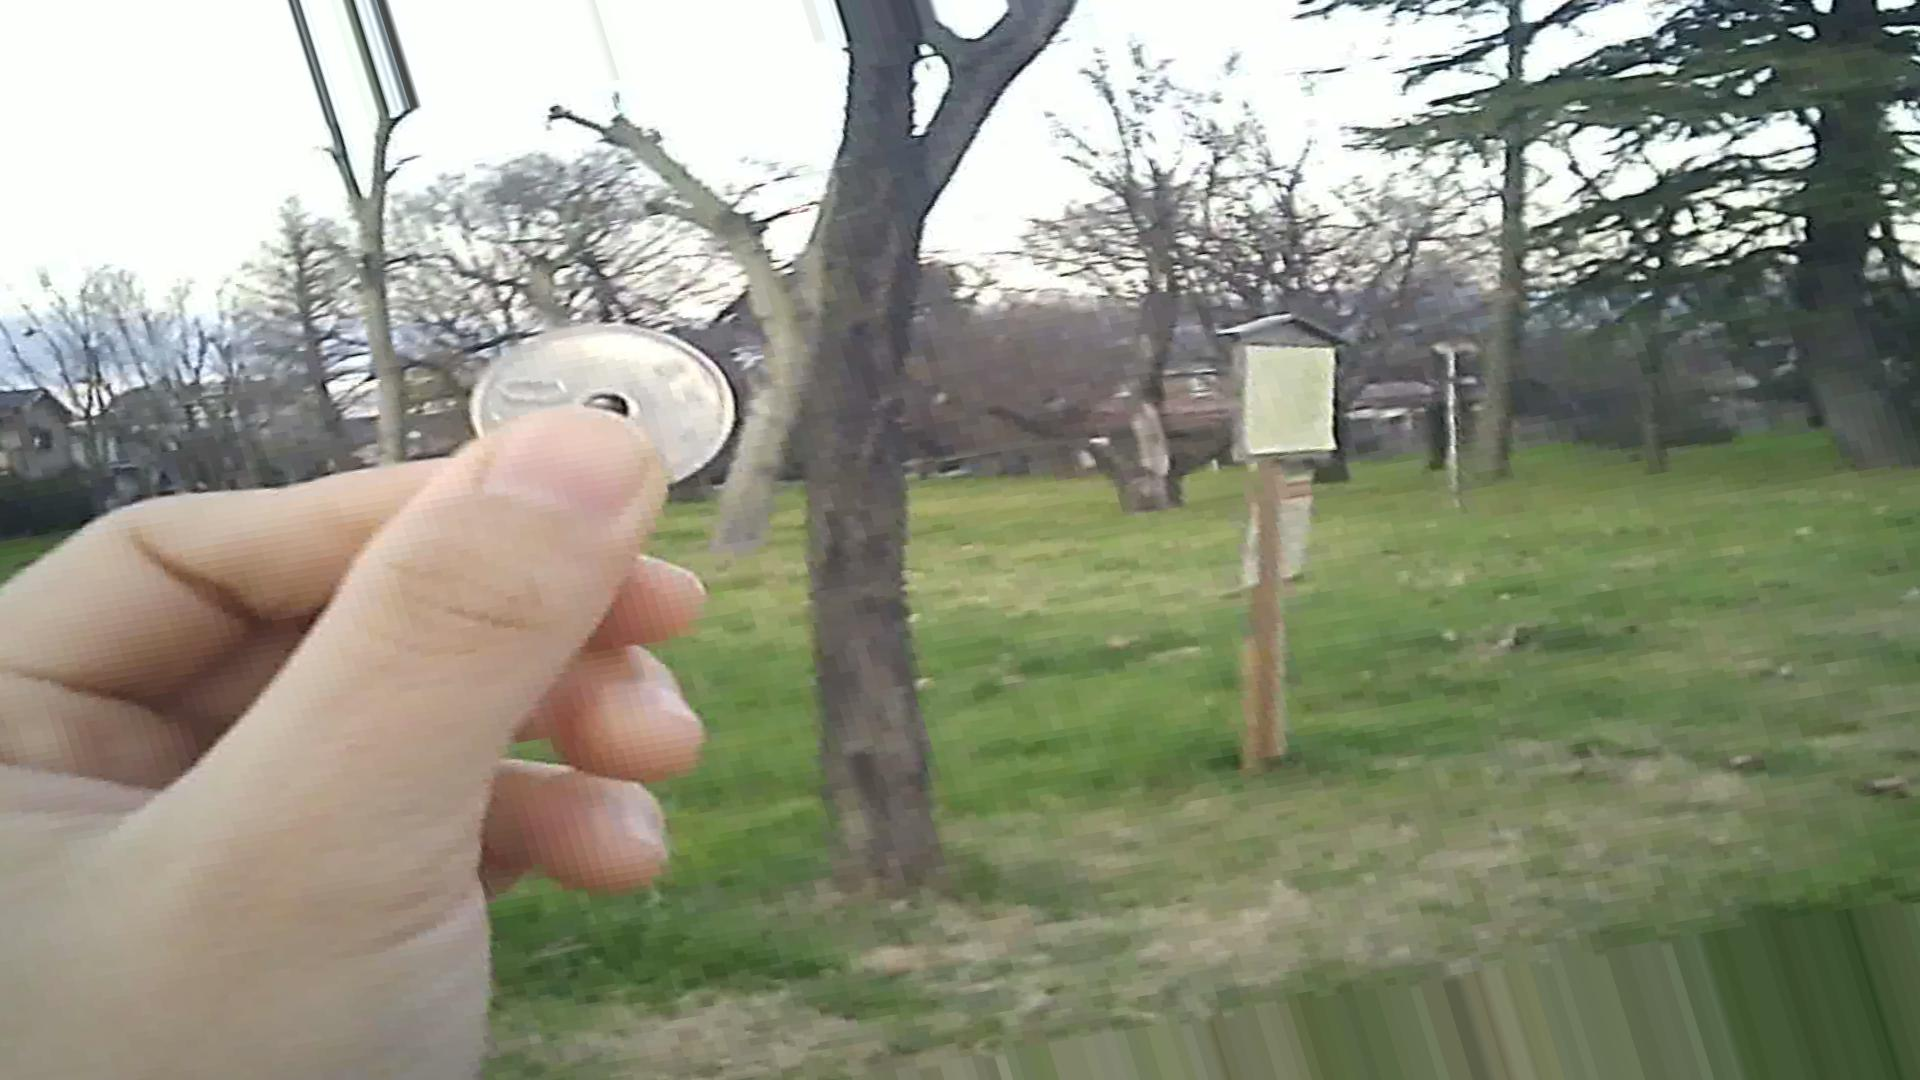50 Yen: (471, 324, 724, 488)
